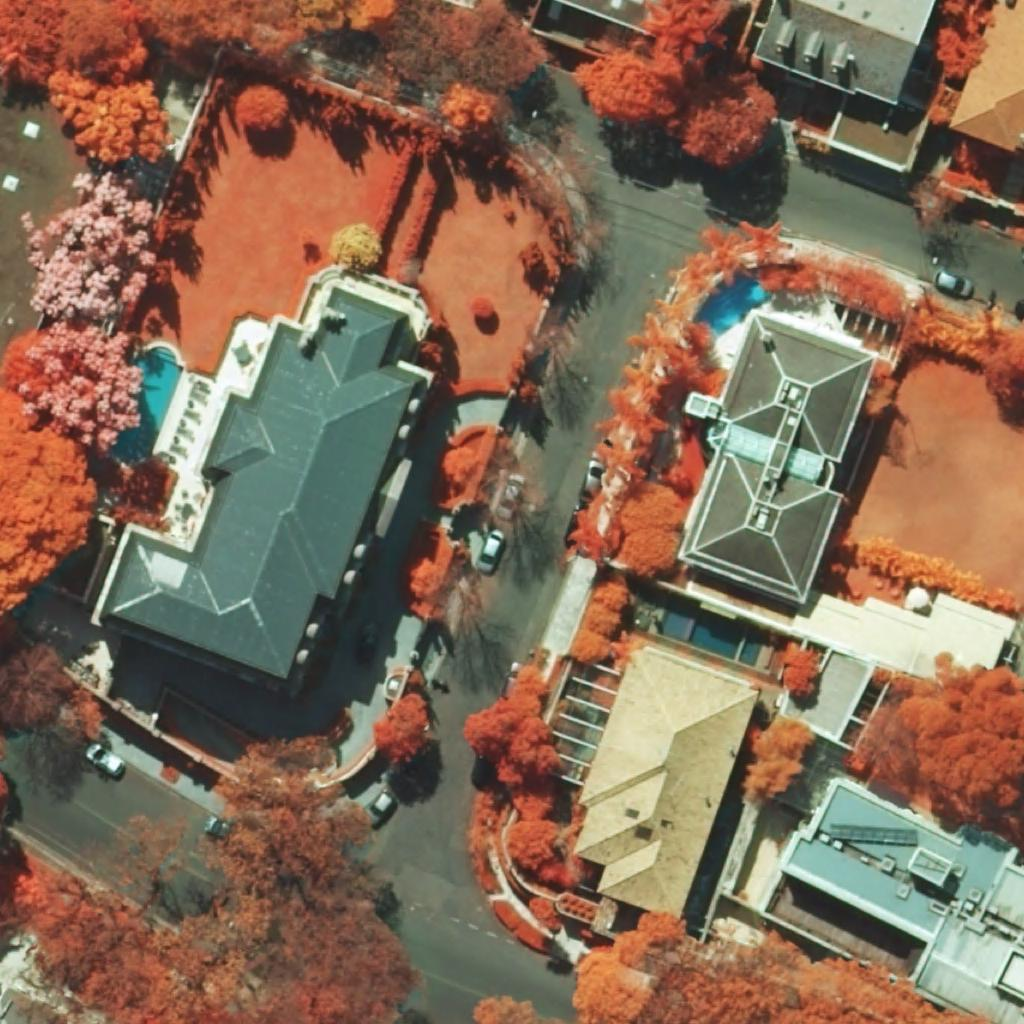pool: (110, 346, 184, 467), (693, 275, 775, 337), (656, 608, 742, 660), (738, 638, 762, 667)
